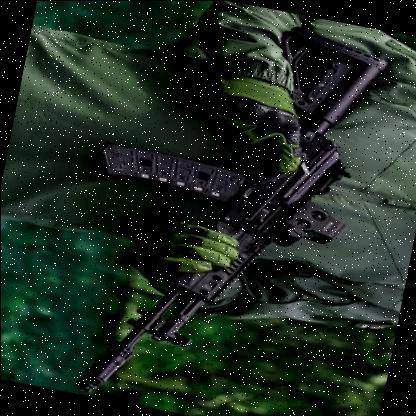rifle: (39, 0, 405, 416)
